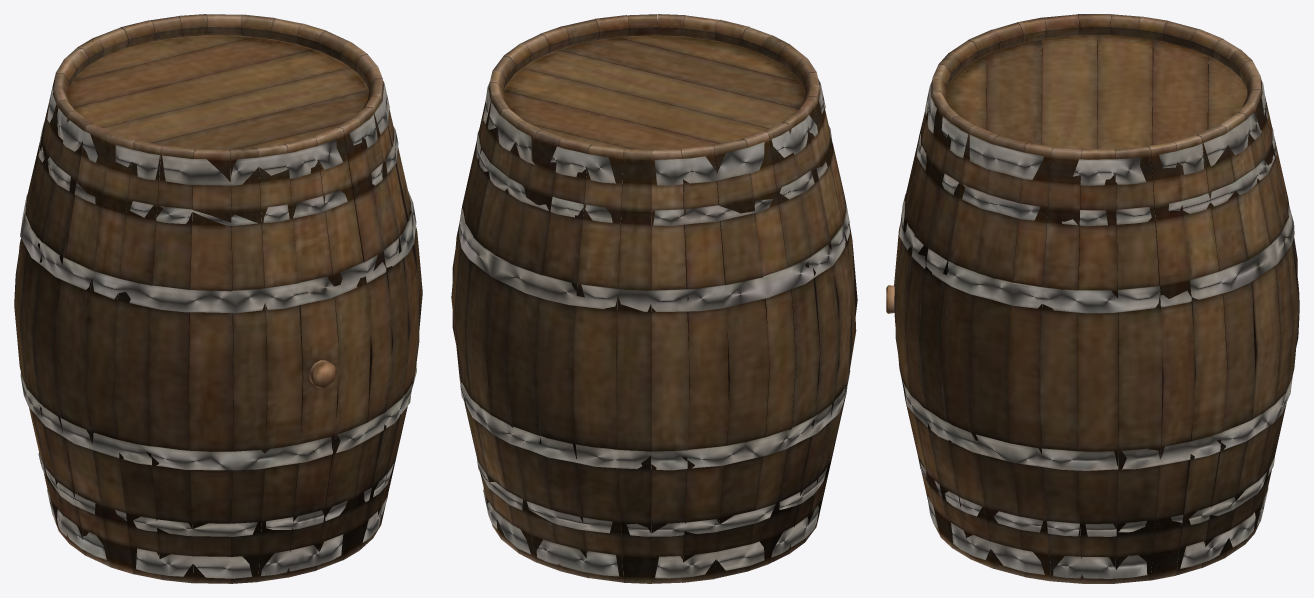
File: wine_barrel.glb
3 views of the same model, side by side, from view 1: azimuth 30°, elevation 25°; view 2: azimuth 150°, elevation 25°; view 3: azimuth 270°, elevation 25° (orthographic).
Visible parts, largest first — view 1: wine_barrel_01_Lid; view 2: wine_barrel_01_Lid; view 3: wine_barrel_01_Lid.
Boxes of the visible parts, x1,y1,x2,y2 form: wine_barrel_01_Lid: [14, 14, 422, 583]; wine_barrel_01_Lid: [451, 14, 857, 583]; wine_barrel_01_Lid: [886, 14, 1299, 583].
Bounding box in the file's own units: 0.7419 × 0.8695 × 0.7554.
Materials: 1 (1 with a texture image).
